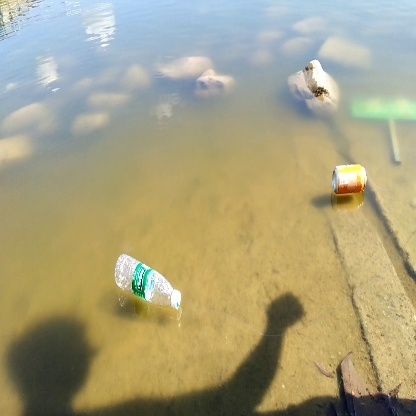bottle: (105, 248, 188, 315)
